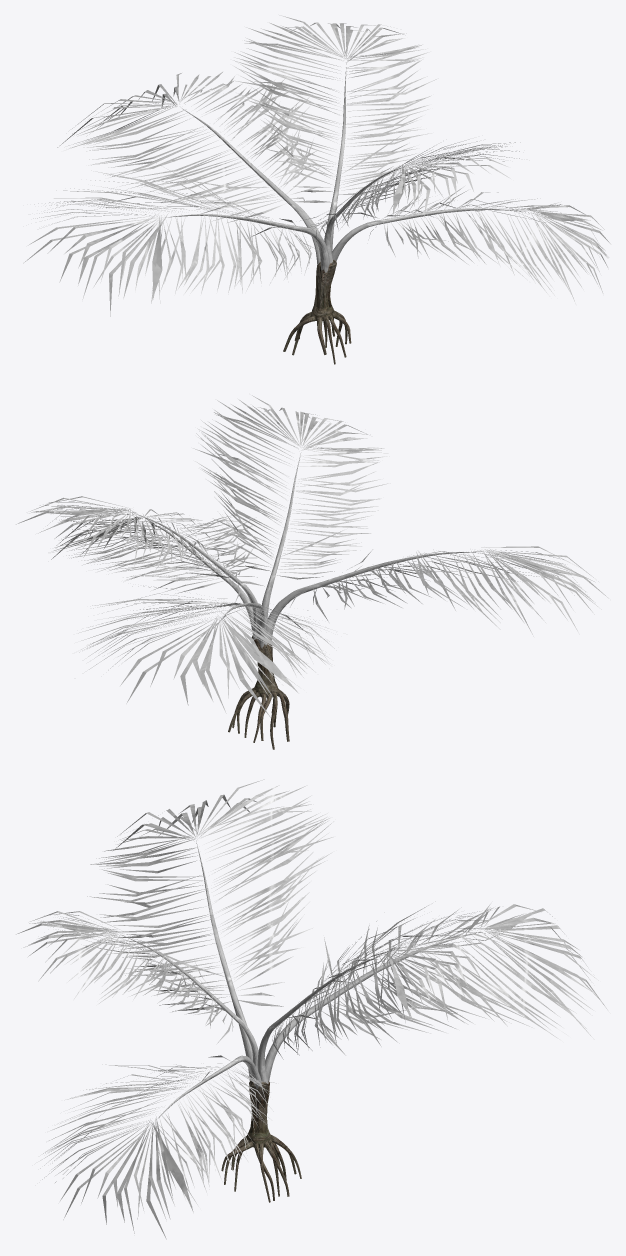
File: palm20.obj
3 views of the same model, one above another, from view 1: azimuth 30°, elevation 25°; view 2: azimuth 150°, elevation 25°; view 3: azimuth 270°, elevation 25° (orthographic). The views are drawn at different scales.
Visible parts, largest first — view 1: object0; view 2: object0; view 3: object0.
Boxes of the visible parts, x1=… form: object0: x1=23, y1=15, x2=610, y2=364; object0: x1=16, y1=395, x2=608, y2=749; object0: x1=16, y1=779, x2=607, y2=1239.
Size of what is drawn, in the model's own units: 70.62 by 31.62 by 55.76.
5 materials, 5 textured.
